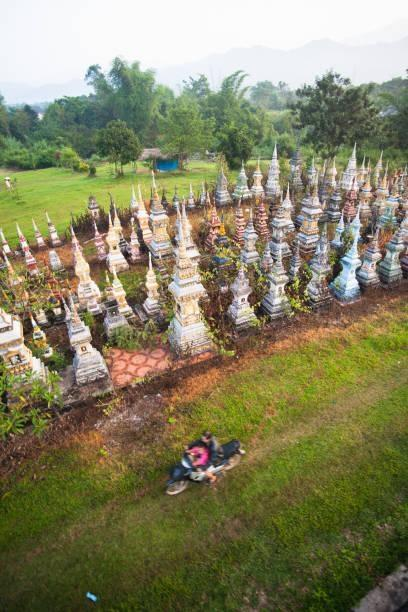Motorcycle: (158, 437, 251, 490)
